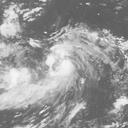cyclone: (54, 59, 75, 79)
